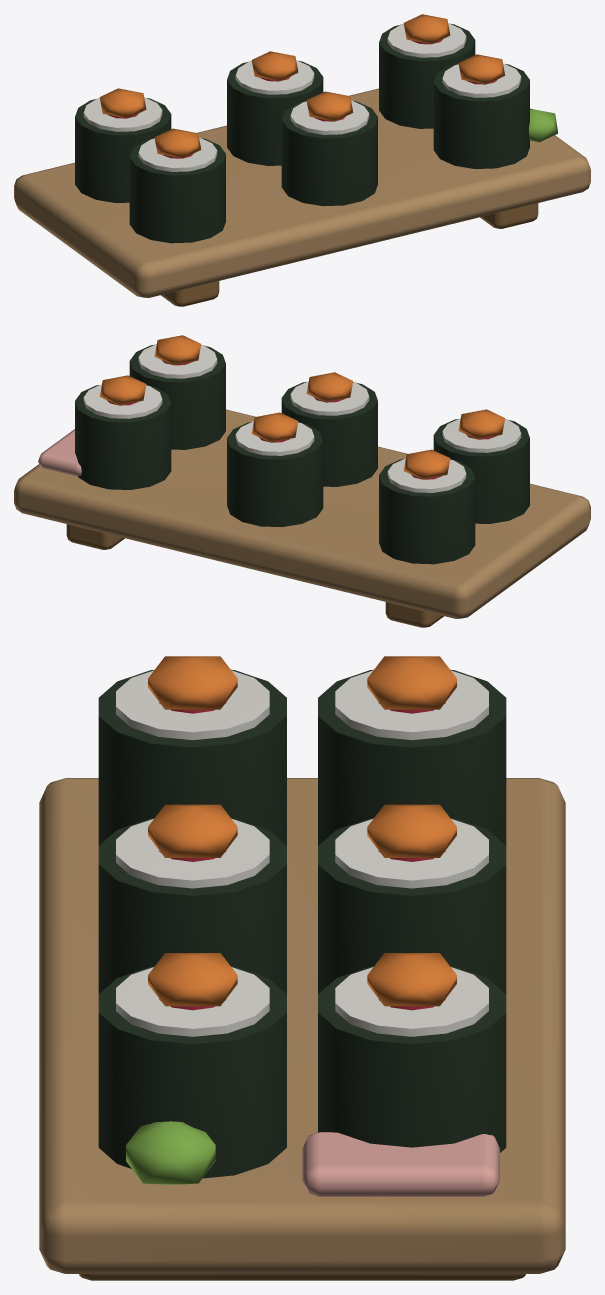
Rendered from item_dish_spicy_tuna.glb.
3 views of the same model, one above another, from view 1: azimuth 30°, elevation 25°; view 2: azimuth 150°, elevation 25°; view 3: azimuth 270°, elevation 25° (orthographic). The views are drawn at different scales.
Visible parts, largest first — view 1: item_dish_spicy_tuna_main; view 2: item_dish_spicy_tuna_main; view 3: item_dish_spicy_tuna_main.
Boxes of the visible parts, x1,y1,x2,y2 form: item_dish_spicy_tuna_main: [14, 14, 590, 306]; item_dish_spicy_tuna_main: [14, 335, 590, 627]; item_dish_spicy_tuna_main: [39, 656, 565, 1280].
Bounding box in the file's own units: 0.24 × 0.076 × 0.12.
